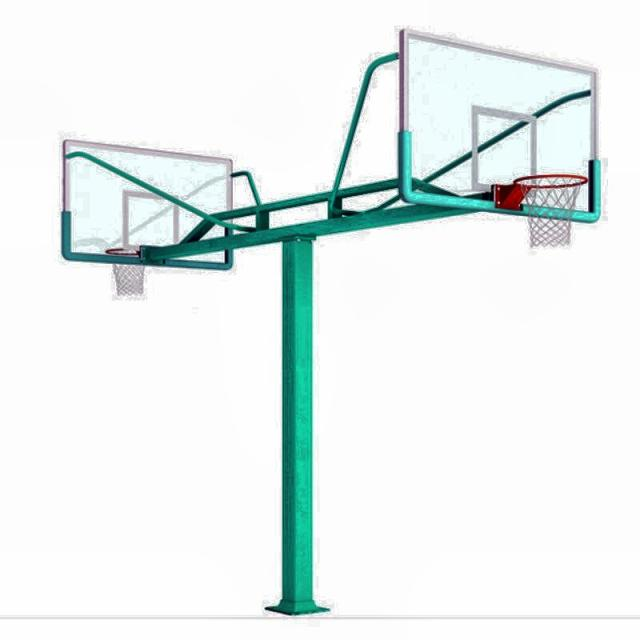rim: (514, 172, 589, 248)
